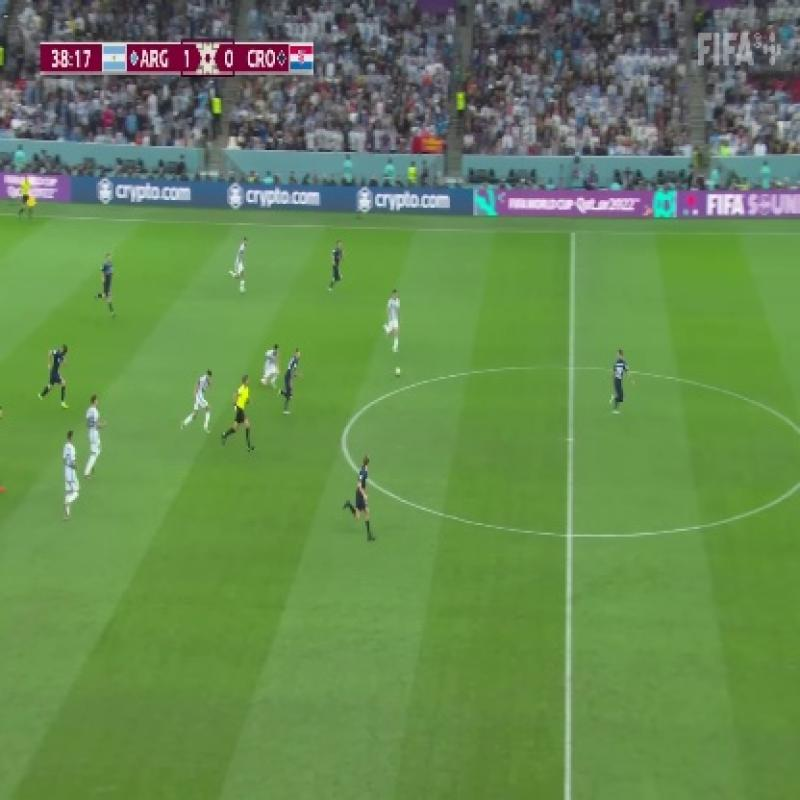13: (564, 219, 582, 244)
14: (558, 350, 584, 383)
15: (554, 513, 583, 552)
c: (324, 412, 364, 464)
